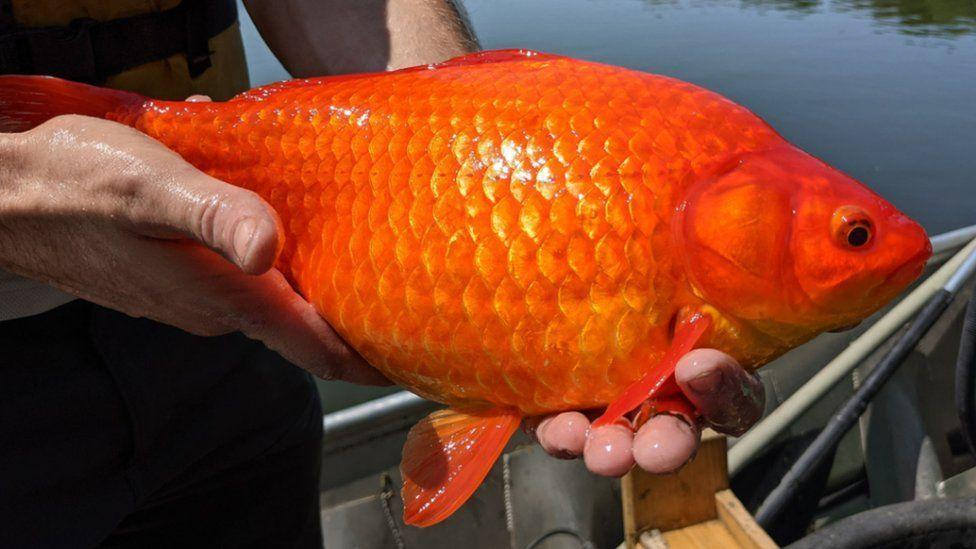Gold Fish: (1, 63, 946, 531)
